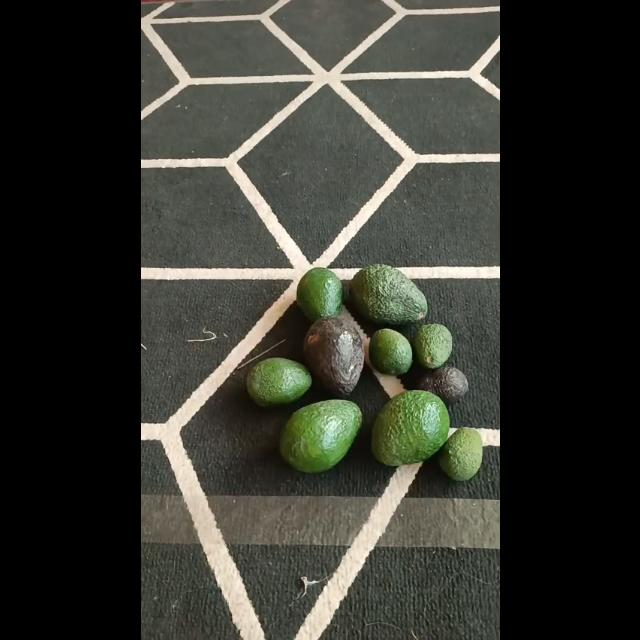Primera: (278, 398, 362, 472), (370, 390, 450, 464), (348, 263, 428, 325), (304, 314, 364, 396)
Segunda: (244, 357, 312, 408), (294, 266, 342, 322)
Tercera: (436, 425, 480, 481), (368, 327, 412, 375), (414, 365, 468, 403), (412, 322, 452, 370)
